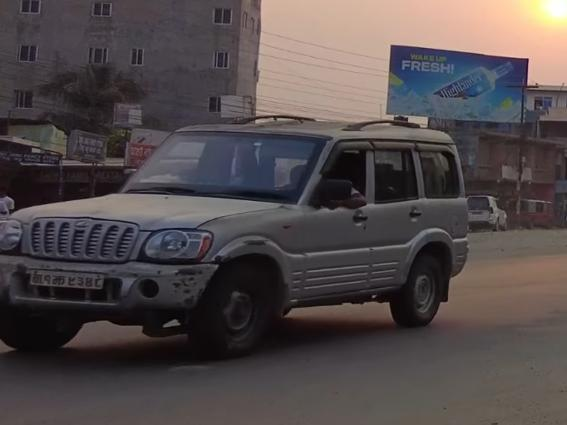SUV: (0, 101, 481, 361)
